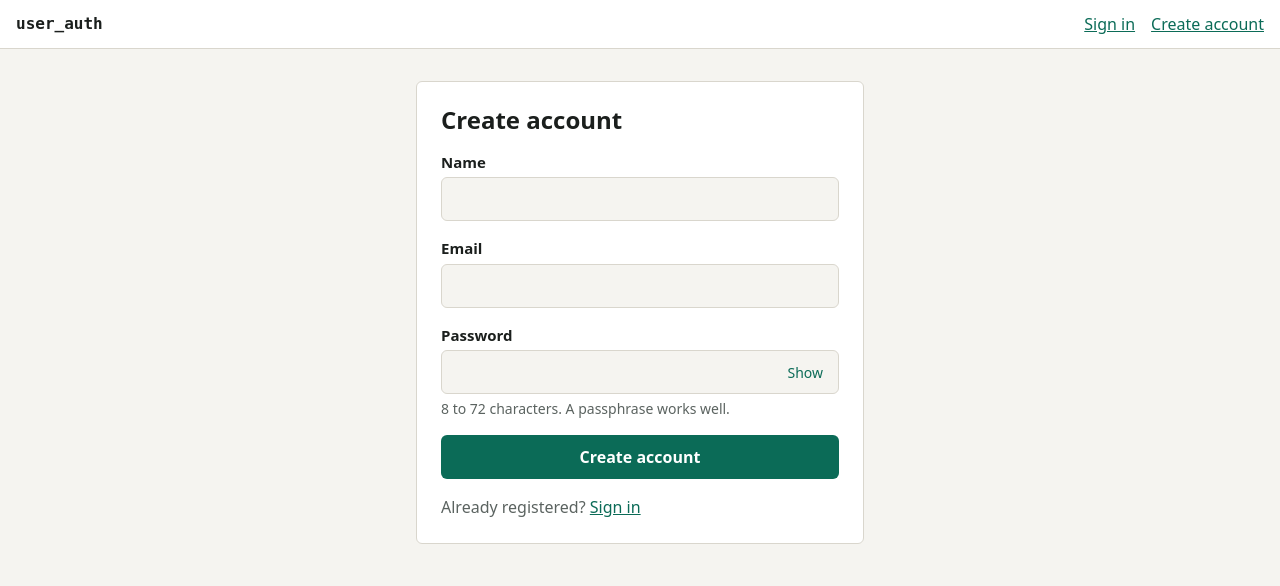
Scenario: register form › maps a duplicate-email response onto the email field
Type "Ann" into the field labelled "Name" at [640, 199], box [441,177,839,221]
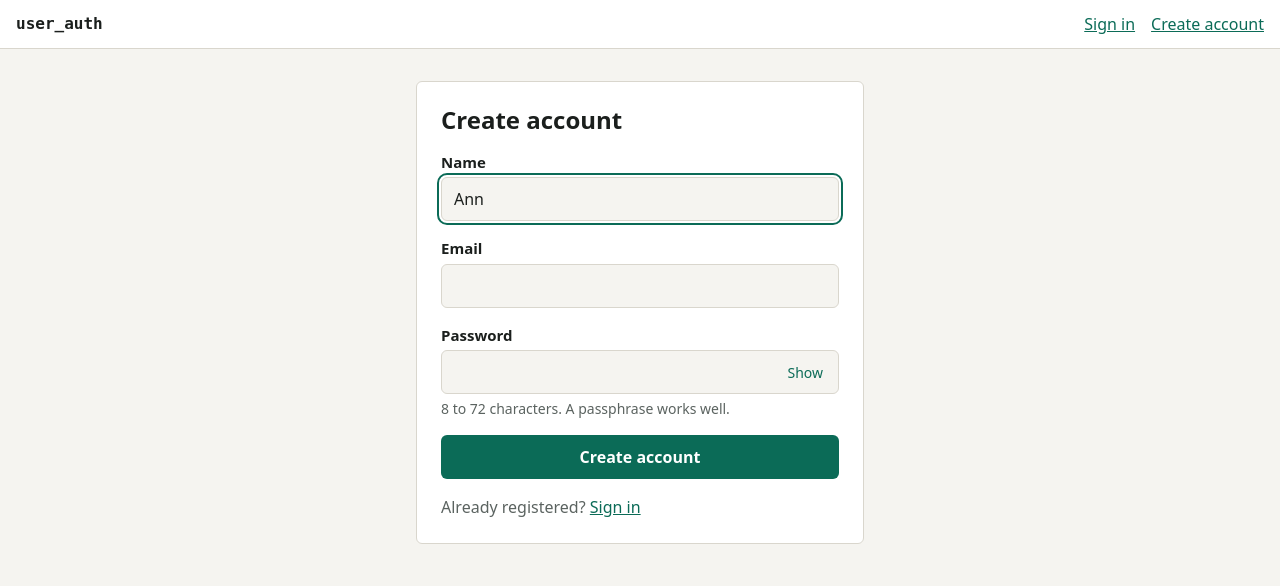
Type "ann@example.com" into the field labelled "Email" at [640, 286], box [441,264,839,308]
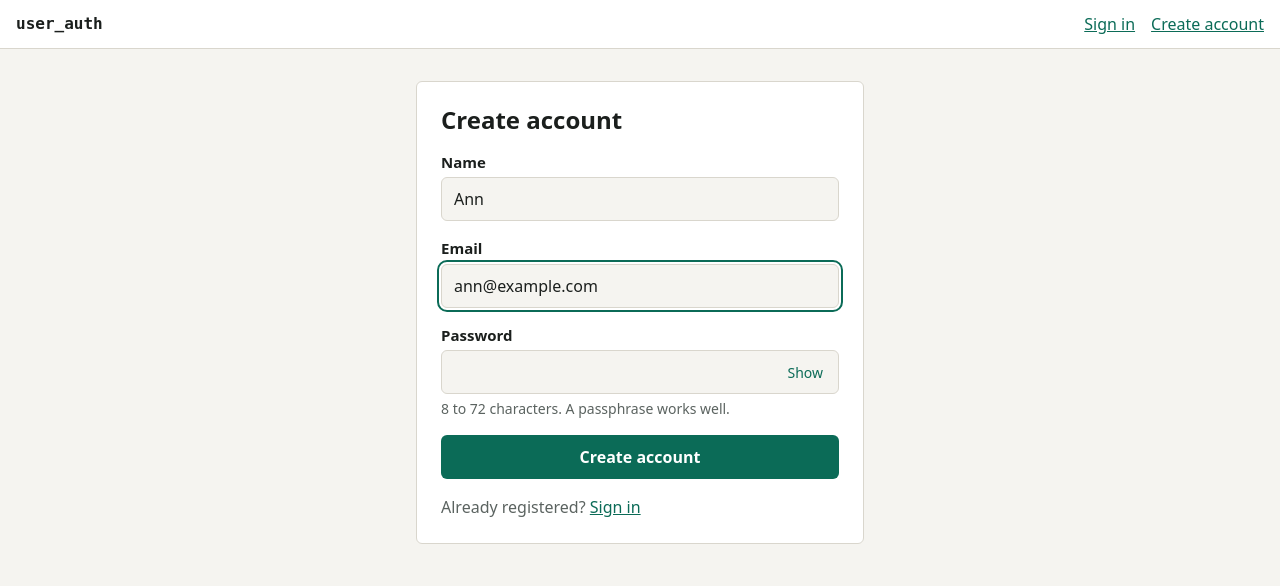
Type "password1" into the password field labelled "Password" at [640, 372], box [441,350,839,394]
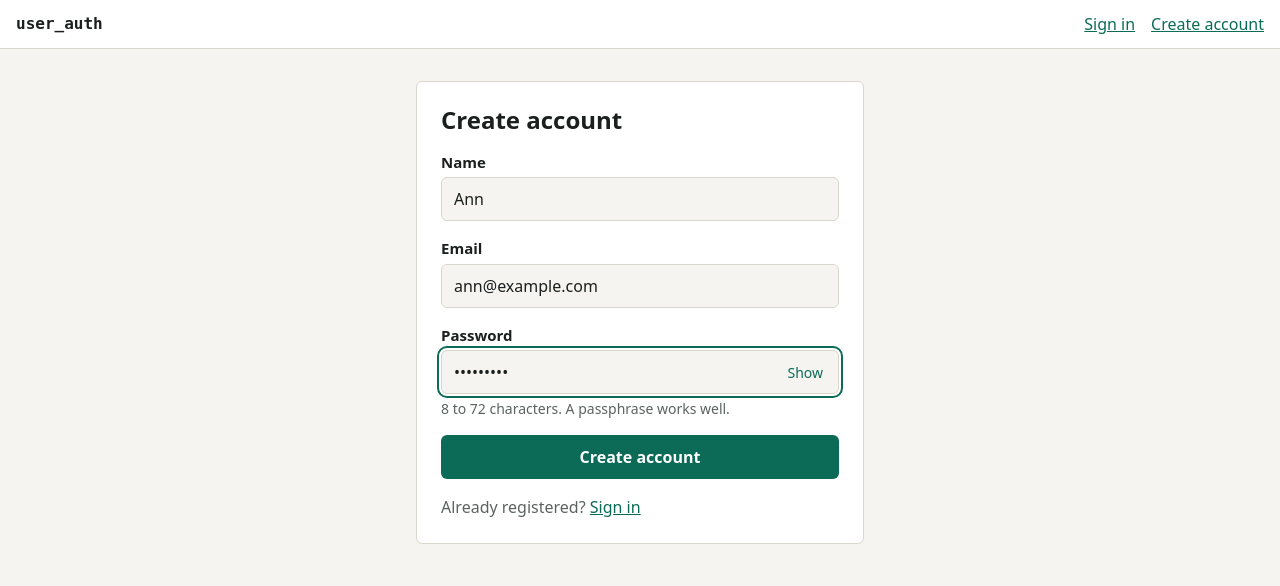
Click the button "Create account" at [640, 457], box [441,435,839,479]
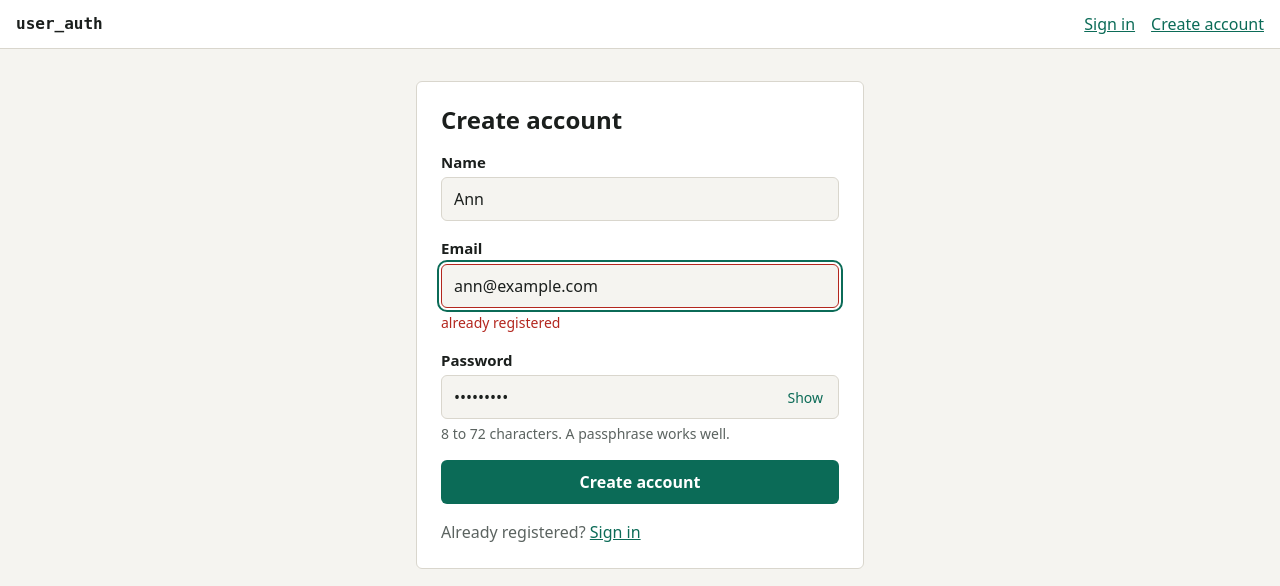
Check: the text "already registered" is shown, box [441,313,560,332]
